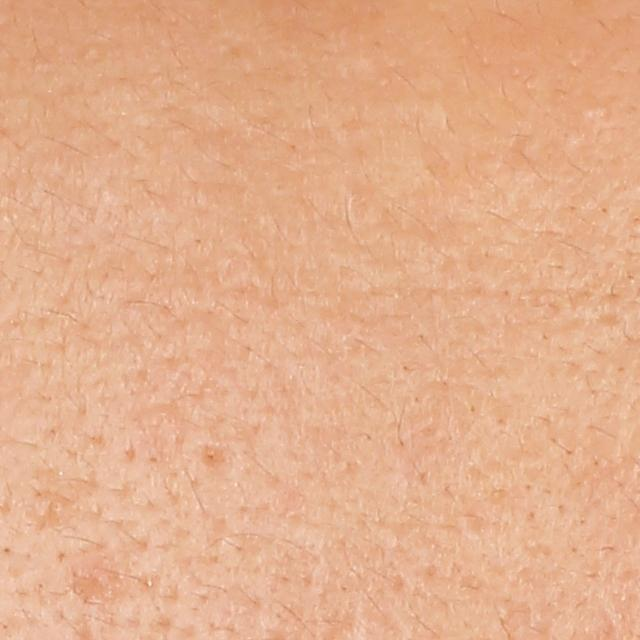atrophic_scar: (195, 443, 233, 474)
